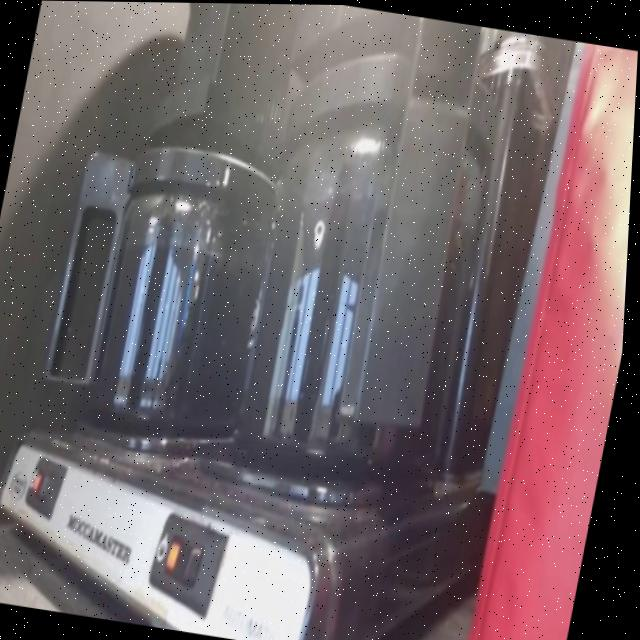coffee: (240, 146, 489, 471), (88, 186, 268, 432)
